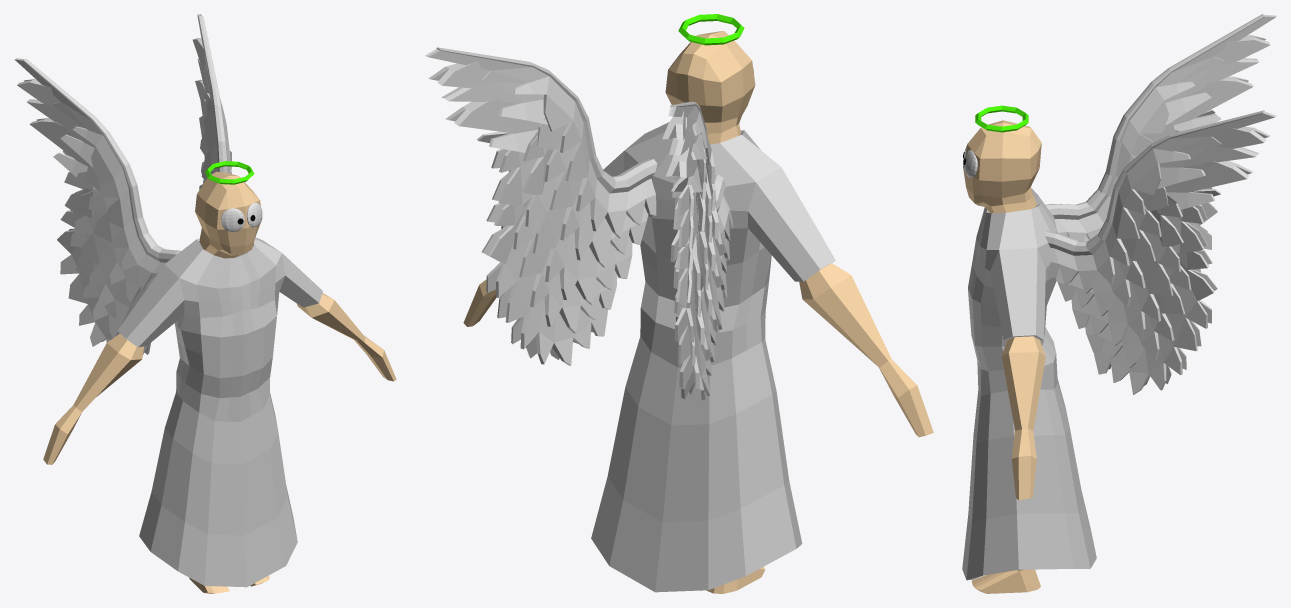
File: AngelDEF.fbx
3 renders of one model, left to right at view 1: azimuth 30°, elevation 25°; view 2: azimuth 150°, elevation 25°; view 3: azimuth 270°, elevation 25°, orthographic. The views are drawn at different scales.
Visible parts, largest first — view 1: Cube.002, Cube.001, Circle.001, Torus; view 2: Cube.002, Cube.001, Circle.001, Torus; view 3: Cube.001, Cube.002, Circle.001, Torus.
Boxes of the visible parts, x1=… form: Cube.002: x1=117, y1=237, x2=322, y2=587; Cube.001: x1=14, y1=14, x2=231, y2=354; Circle.001: x1=43, y1=171, x2=396, y2=593; Torus: x1=205, y1=161, x2=254, y2=184; Cube.002: x1=591, y1=122, x2=835, y2=592; Cube.001: x1=425, y1=47, x2=733, y2=400; Circle.001: x1=463, y1=31, x2=933, y2=593; Torus: x1=678, y1=14, x2=744, y2=45; Cube.001: x1=1045, y1=14, x2=1276, y2=394; Cube.002: x1=962, y1=188, x2=1096, y2=580; Circle.001: x1=963, y1=120, x2=1045, y2=593; Torus: x1=975, y1=105, x2=1028, y2=132.
Size of the model in its own units: 418 by 524 by 291.
